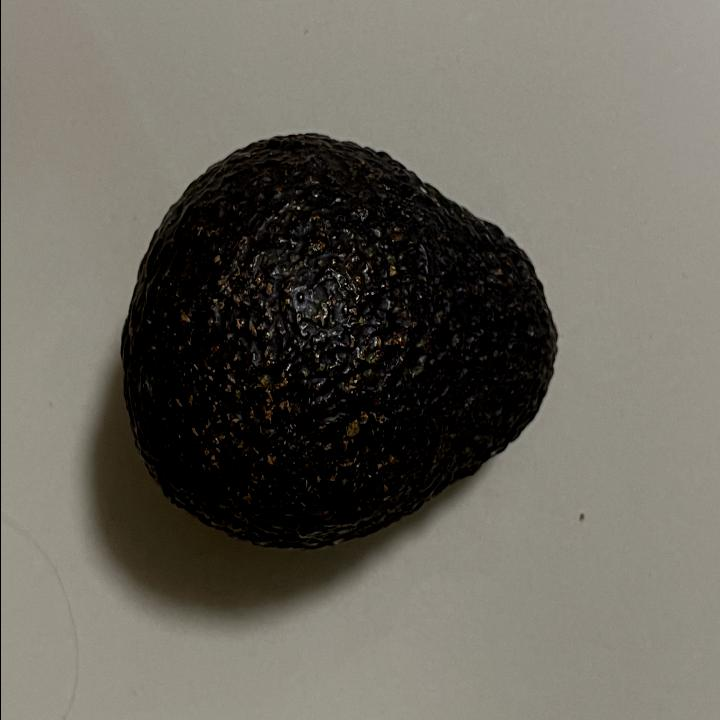Level1: (111, 118, 574, 568)
